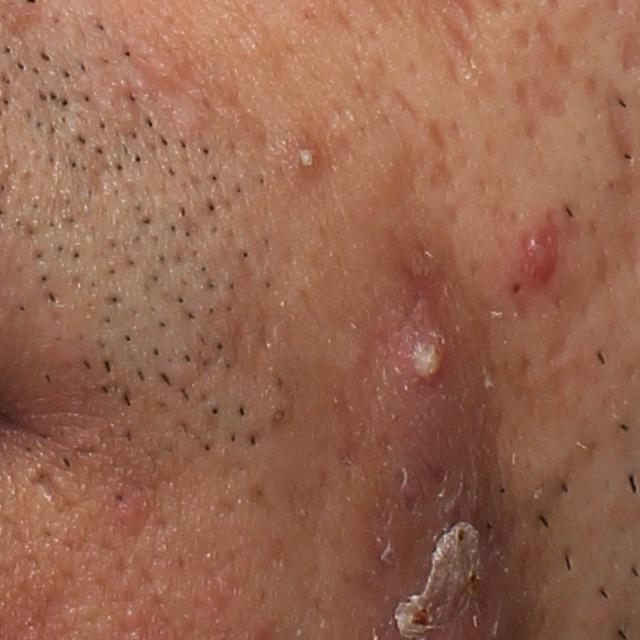atrophic_scar: (605, 77, 636, 169), (535, 18, 578, 74), (22, 464, 72, 512), (521, 75, 569, 119), (434, 11, 477, 57), (430, 155, 465, 195), (426, 120, 454, 157), (506, 24, 531, 55)
papule: (508, 227, 564, 298)
pustule: (286, 134, 325, 180)
